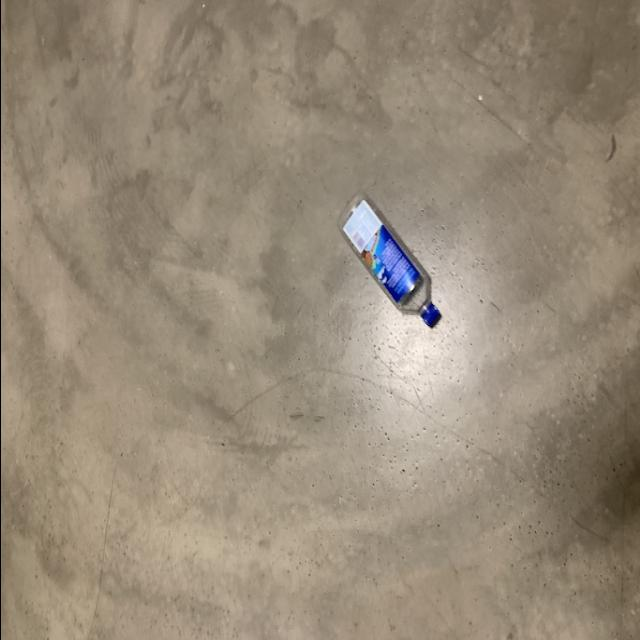PET: (336, 192, 446, 330)
